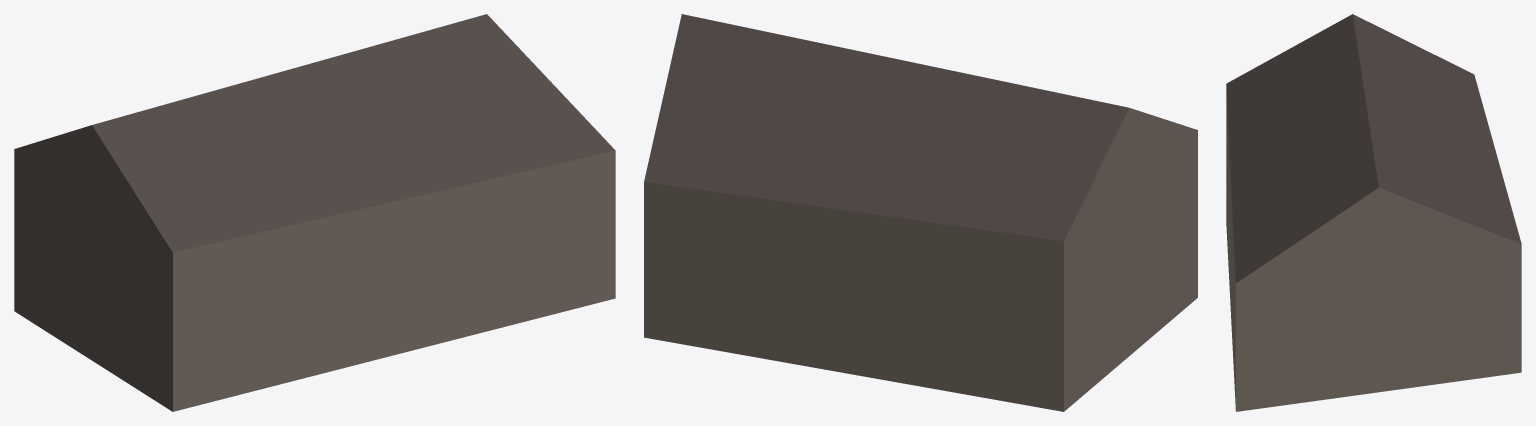
3 views of the same model, side by side, from view 1: azimuth 30°, elevation 25°; view 2: azimuth 150°, elevation 25°; view 3: azimuth 270°, elevation 25° (orthographic). The views are drawn at different scales.
Visible parts, largest first — view 1: HP-w1512914149; view 2: HP-w1512914149; view 3: HP-w1512914149.
Boxes of the visible parts, box(x1,y1,x2,y2) form: HP-w1512914149: box(14, 14, 615, 411); HP-w1512914149: box(644, 14, 1197, 411); HP-w1512914149: box(1226, 14, 1521, 411).
Size of the model in its own units: 19.71 by 9.56 by 12.52.
